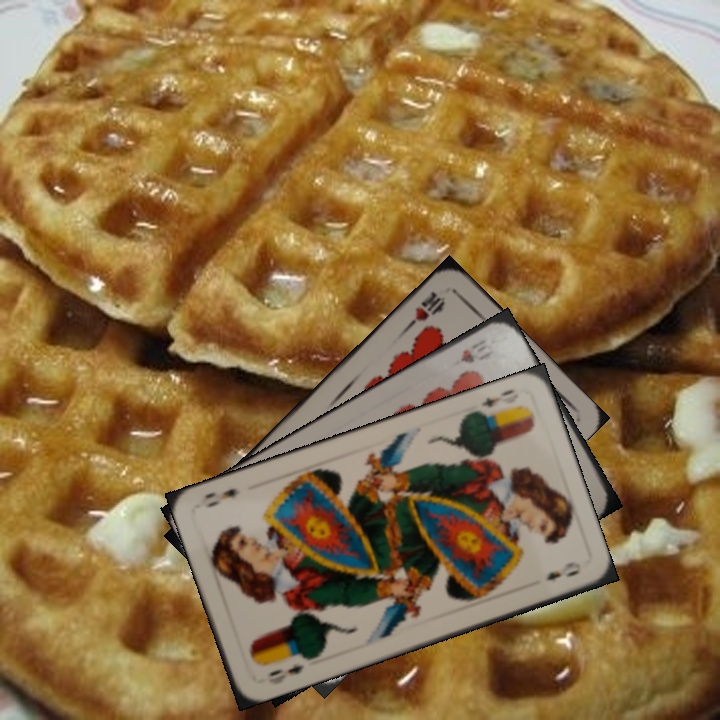EO: (470, 385, 517, 420), (264, 659, 308, 679)
H10: (402, 287, 448, 332), (456, 335, 497, 366)
